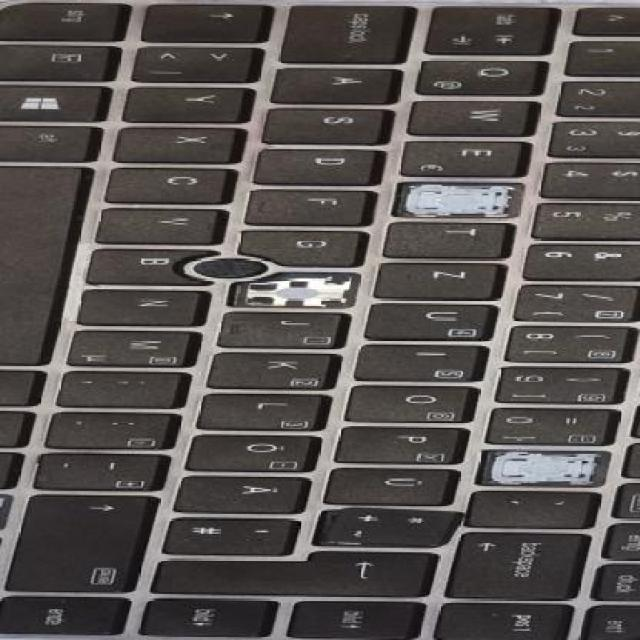Keyboard problems: (465, 437, 618, 493), (223, 259, 360, 311), (390, 173, 529, 220)
